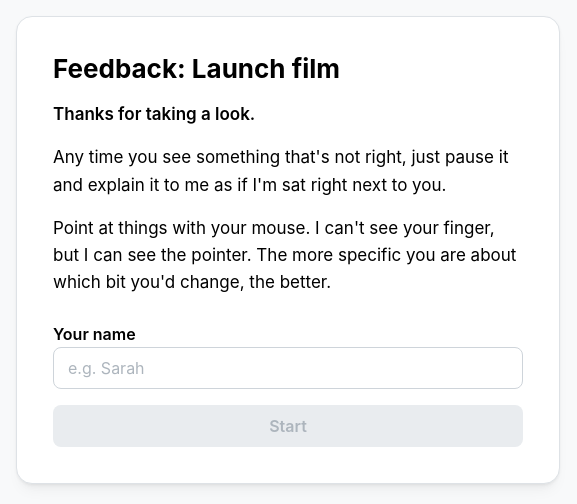
Test: Welcome › shows the instructions and disables Start until a name is typed
Expected: the text "as if I'm sat right next to you" is shown, [53,148,508,195]
Expected: the heading "Feedback: Launch film" is shown, [53,53,340,84]
In the field with test id "name-input": (288, 368) [53,347,523,389], type "Sarah"
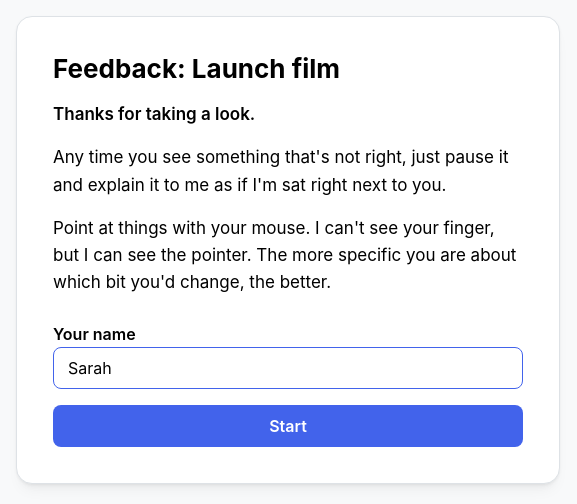
Expected: the button with test id "start-button" is enabled, [53,405,523,447]
